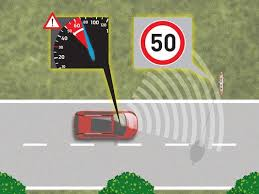sp50: (137, 19, 189, 66)
